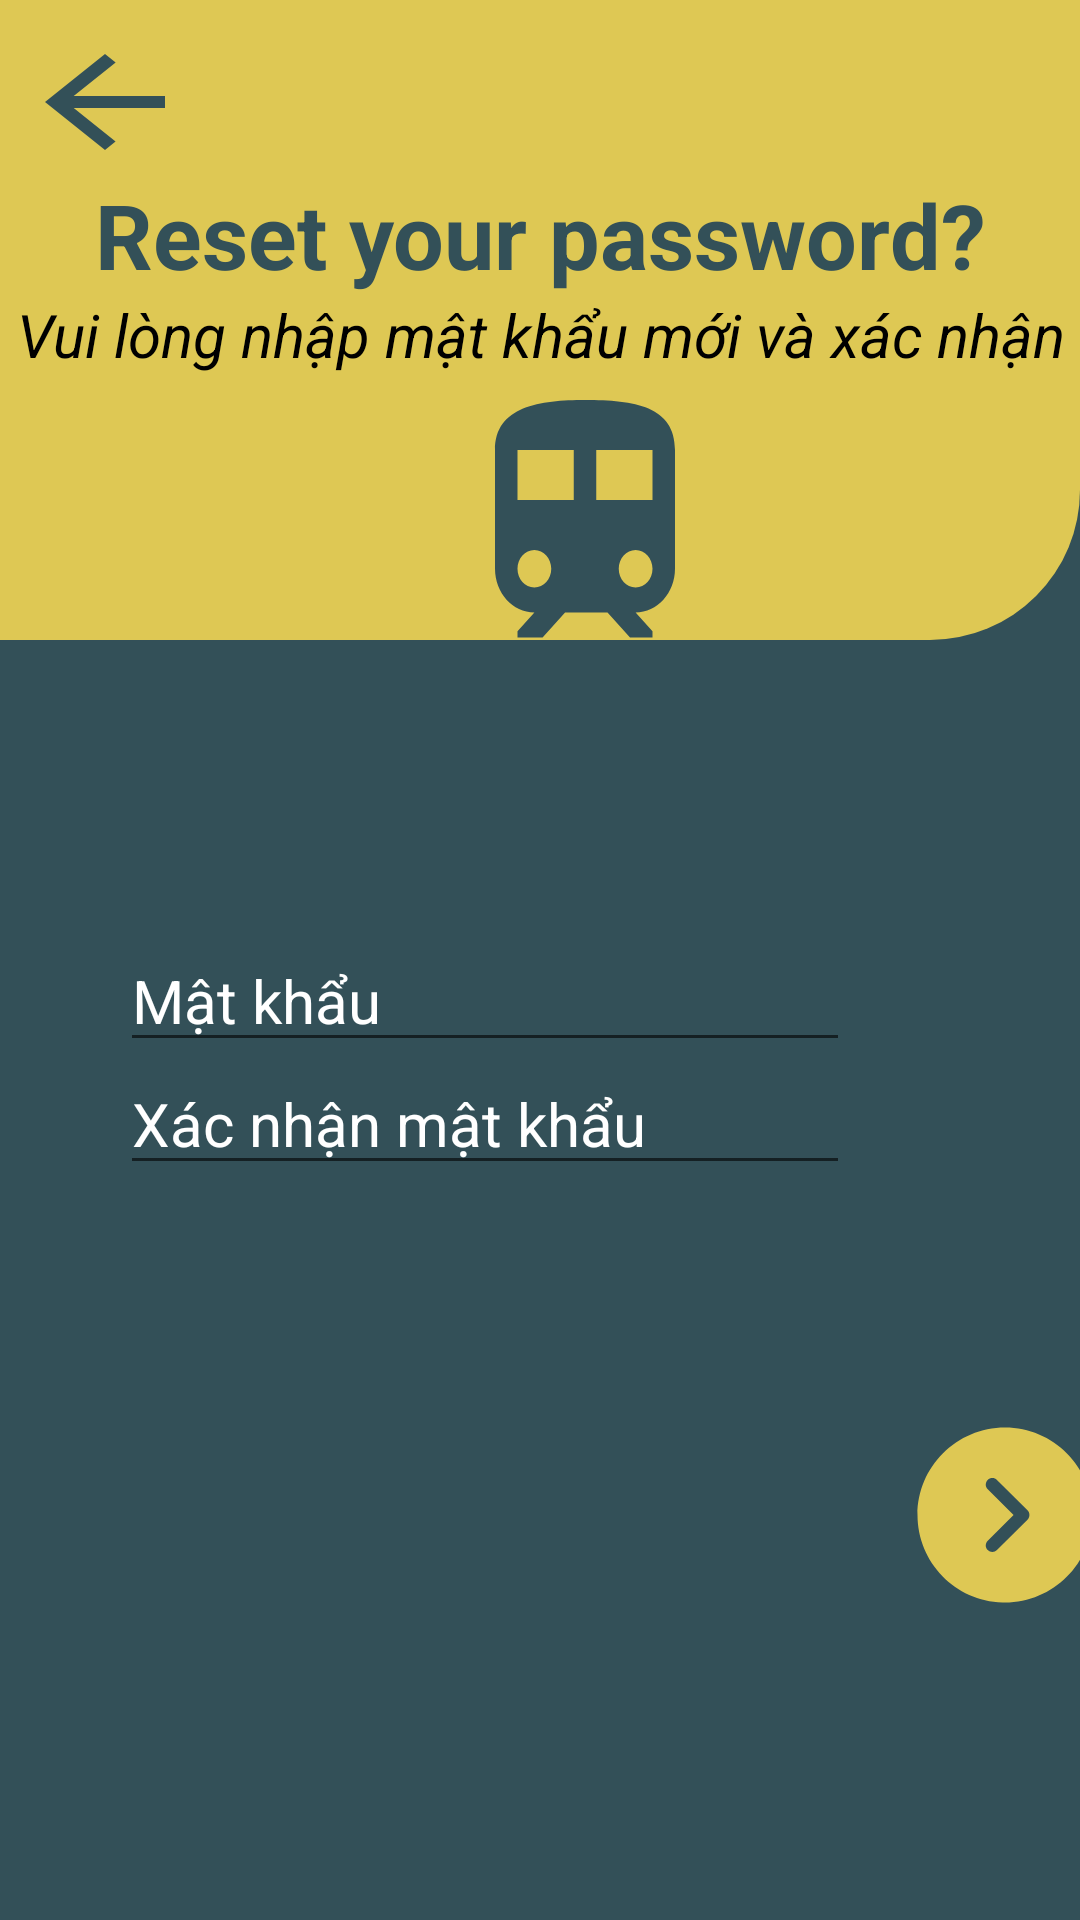

Icon click points for this 1080x1920 phone screenshot, format point (x, y):
arrow back: point (105, 102)
